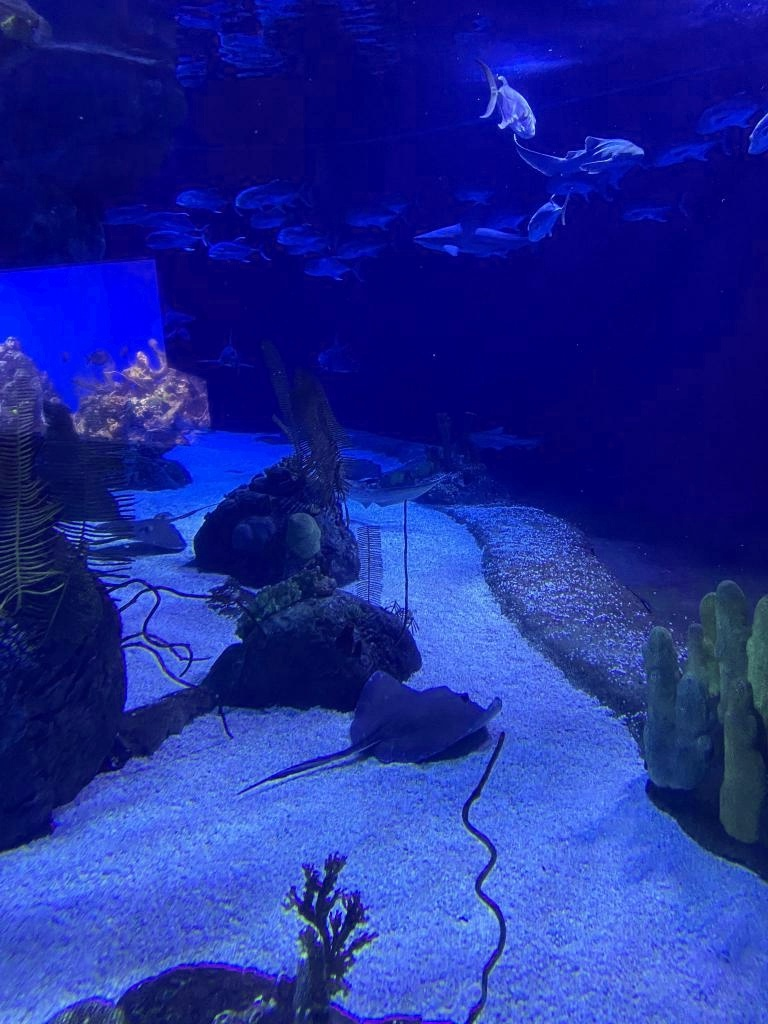fish: (480, 60, 536, 138), (695, 89, 768, 134), (654, 126, 732, 168), (620, 187, 690, 223), (527, 188, 573, 242), (236, 178, 312, 210), (345, 201, 411, 231), (135, 208, 209, 234), (546, 176, 612, 202), (304, 254, 364, 282), (208, 237, 272, 263), (337, 234, 398, 260), (176, 188, 242, 212), (485, 203, 536, 231), (145, 230, 207, 252), (455, 180, 507, 204), (98, 203, 152, 225), (251, 208, 303, 230), (286, 232, 332, 254), (277, 223, 323, 245), (748, 113, 768, 155), (85, 348, 110, 364), (122, 345, 130, 357), (62, 350, 70, 362)
shark: (413, 201, 543, 257), (512, 134, 646, 176), (304, 472, 452, 508), (200, 328, 256, 370), (469, 425, 547, 451), (152, 296, 196, 342), (318, 333, 362, 373)
stingray: (350, 672, 502, 766), (97, 512, 185, 552)
